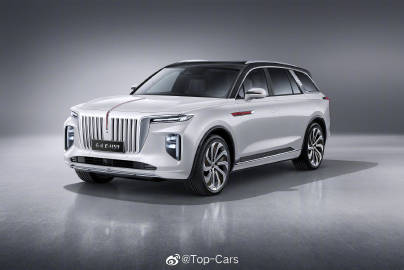other: (63, 60, 331, 189)
